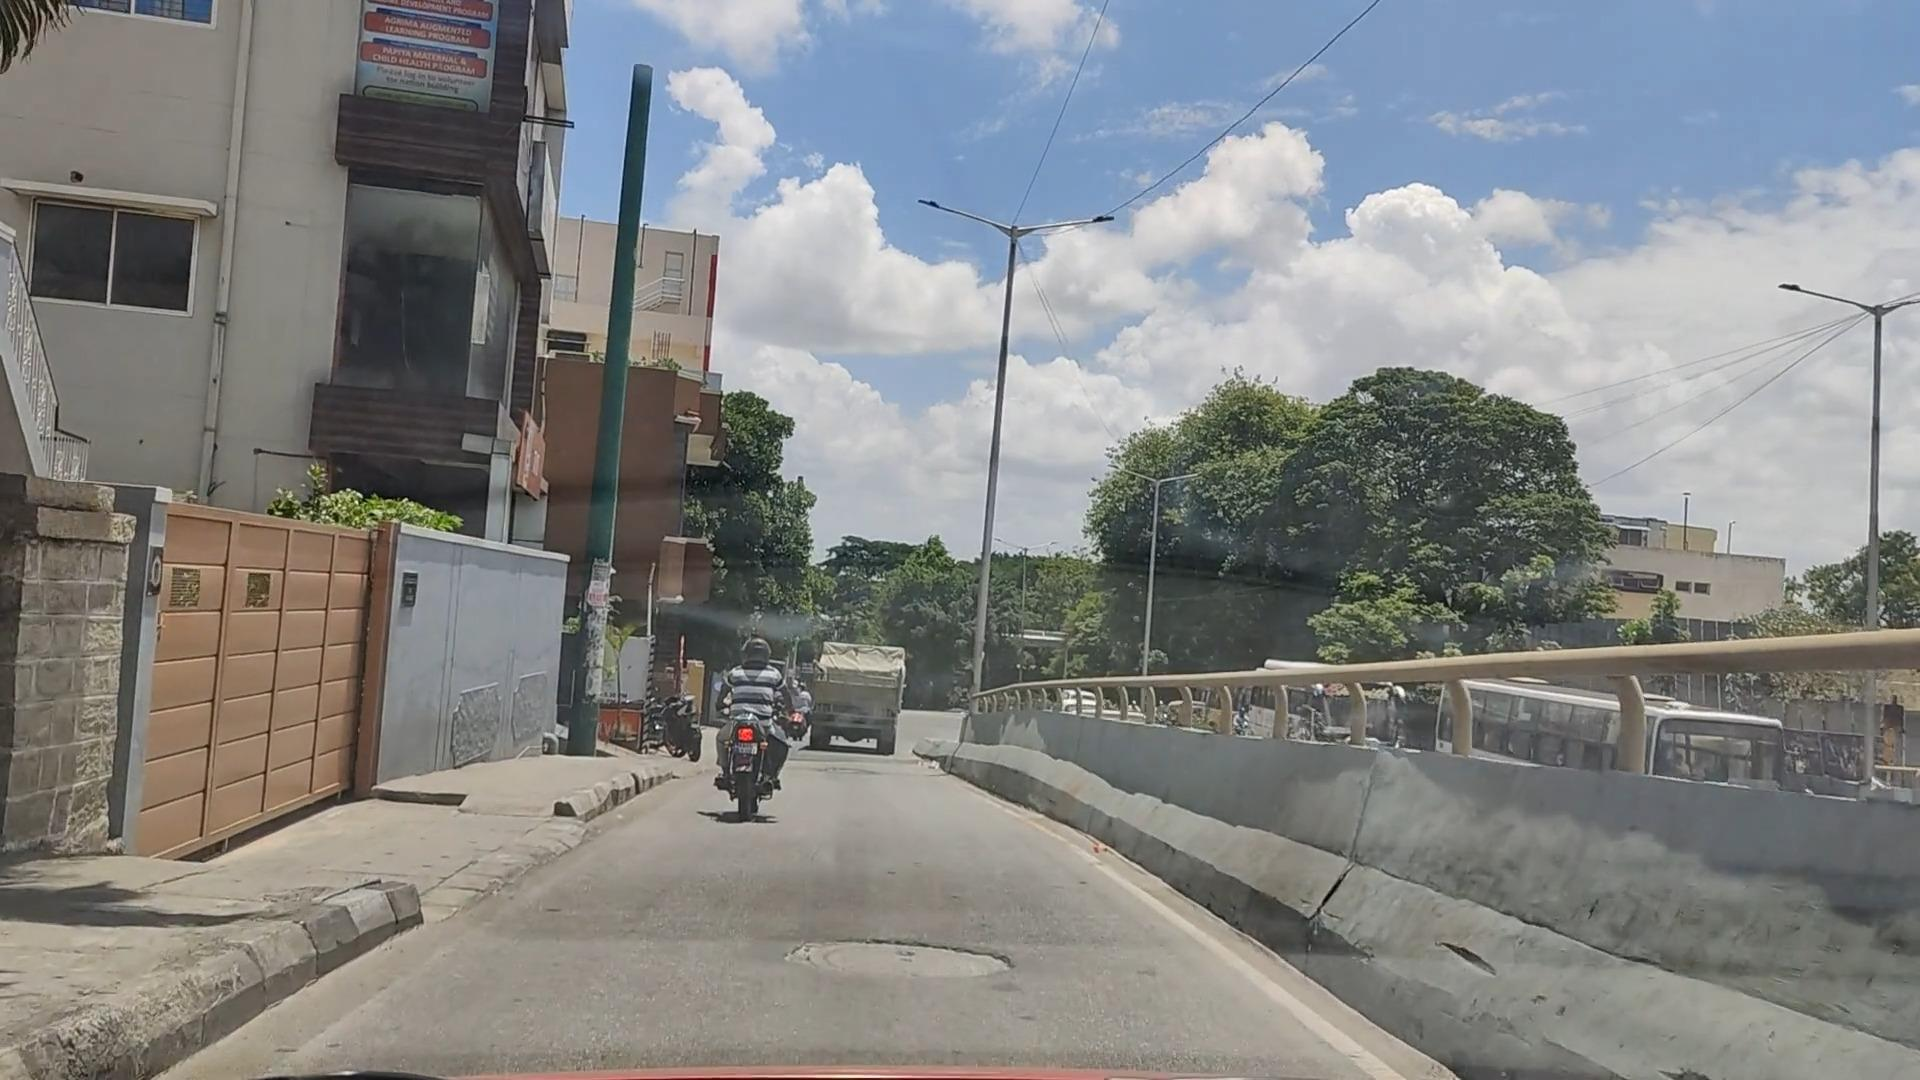HMV: (796, 610, 923, 767)
RoadDamages: (778, 897, 1030, 1003)
